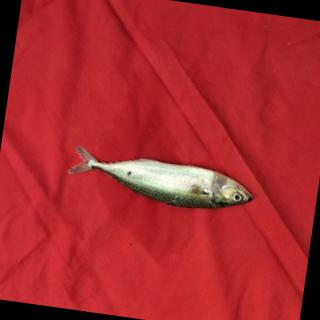Ikan: (62, 127, 266, 235)
